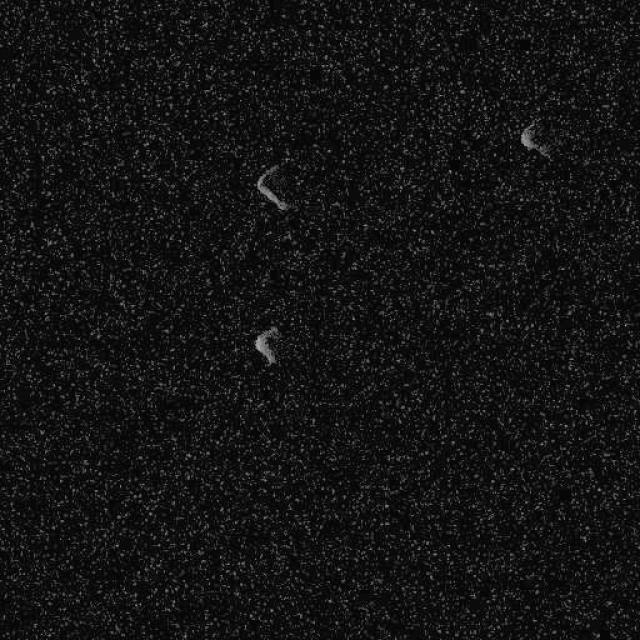D2: (255, 162, 291, 212), (519, 120, 551, 159), (252, 324, 280, 366)
